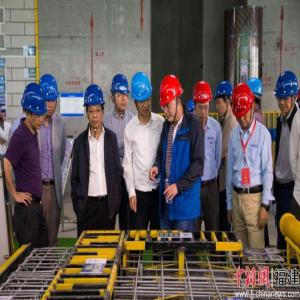blue: (273, 69, 300, 118), (130, 70, 155, 120), (22, 84, 47, 132), (84, 84, 108, 130), (39, 75, 60, 118), (111, 73, 131, 116), (215, 81, 233, 117), (247, 77, 265, 111), (186, 100, 197, 119)
red: (158, 73, 184, 124), (230, 81, 256, 129), (192, 80, 214, 121)
